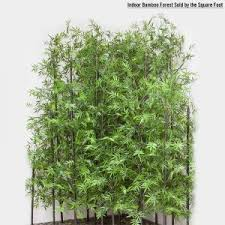bamboo: (29, 21, 199, 221)
